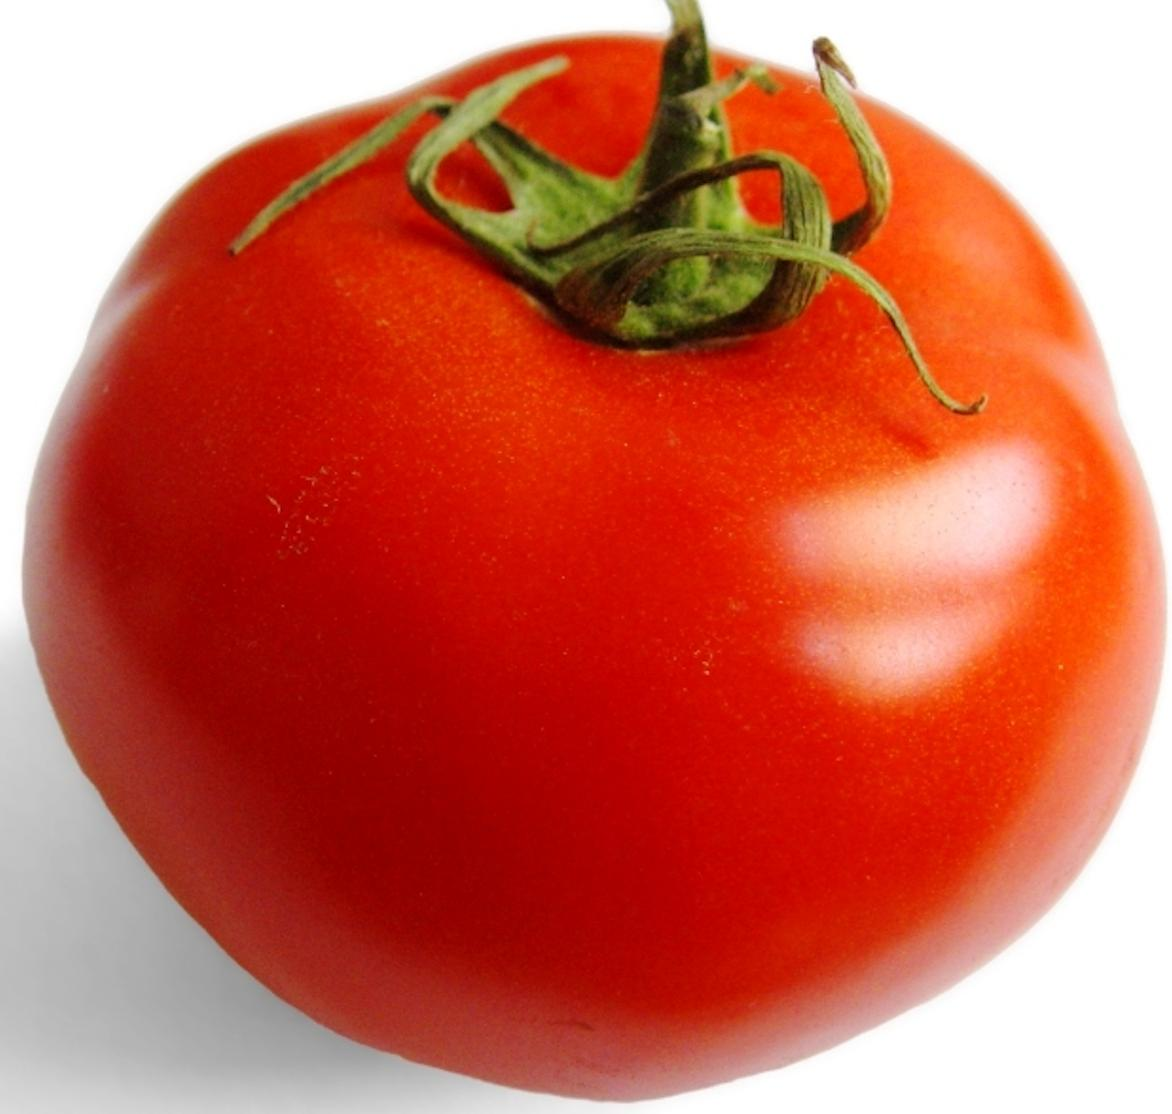tomato: (20, 49, 1146, 1099)
